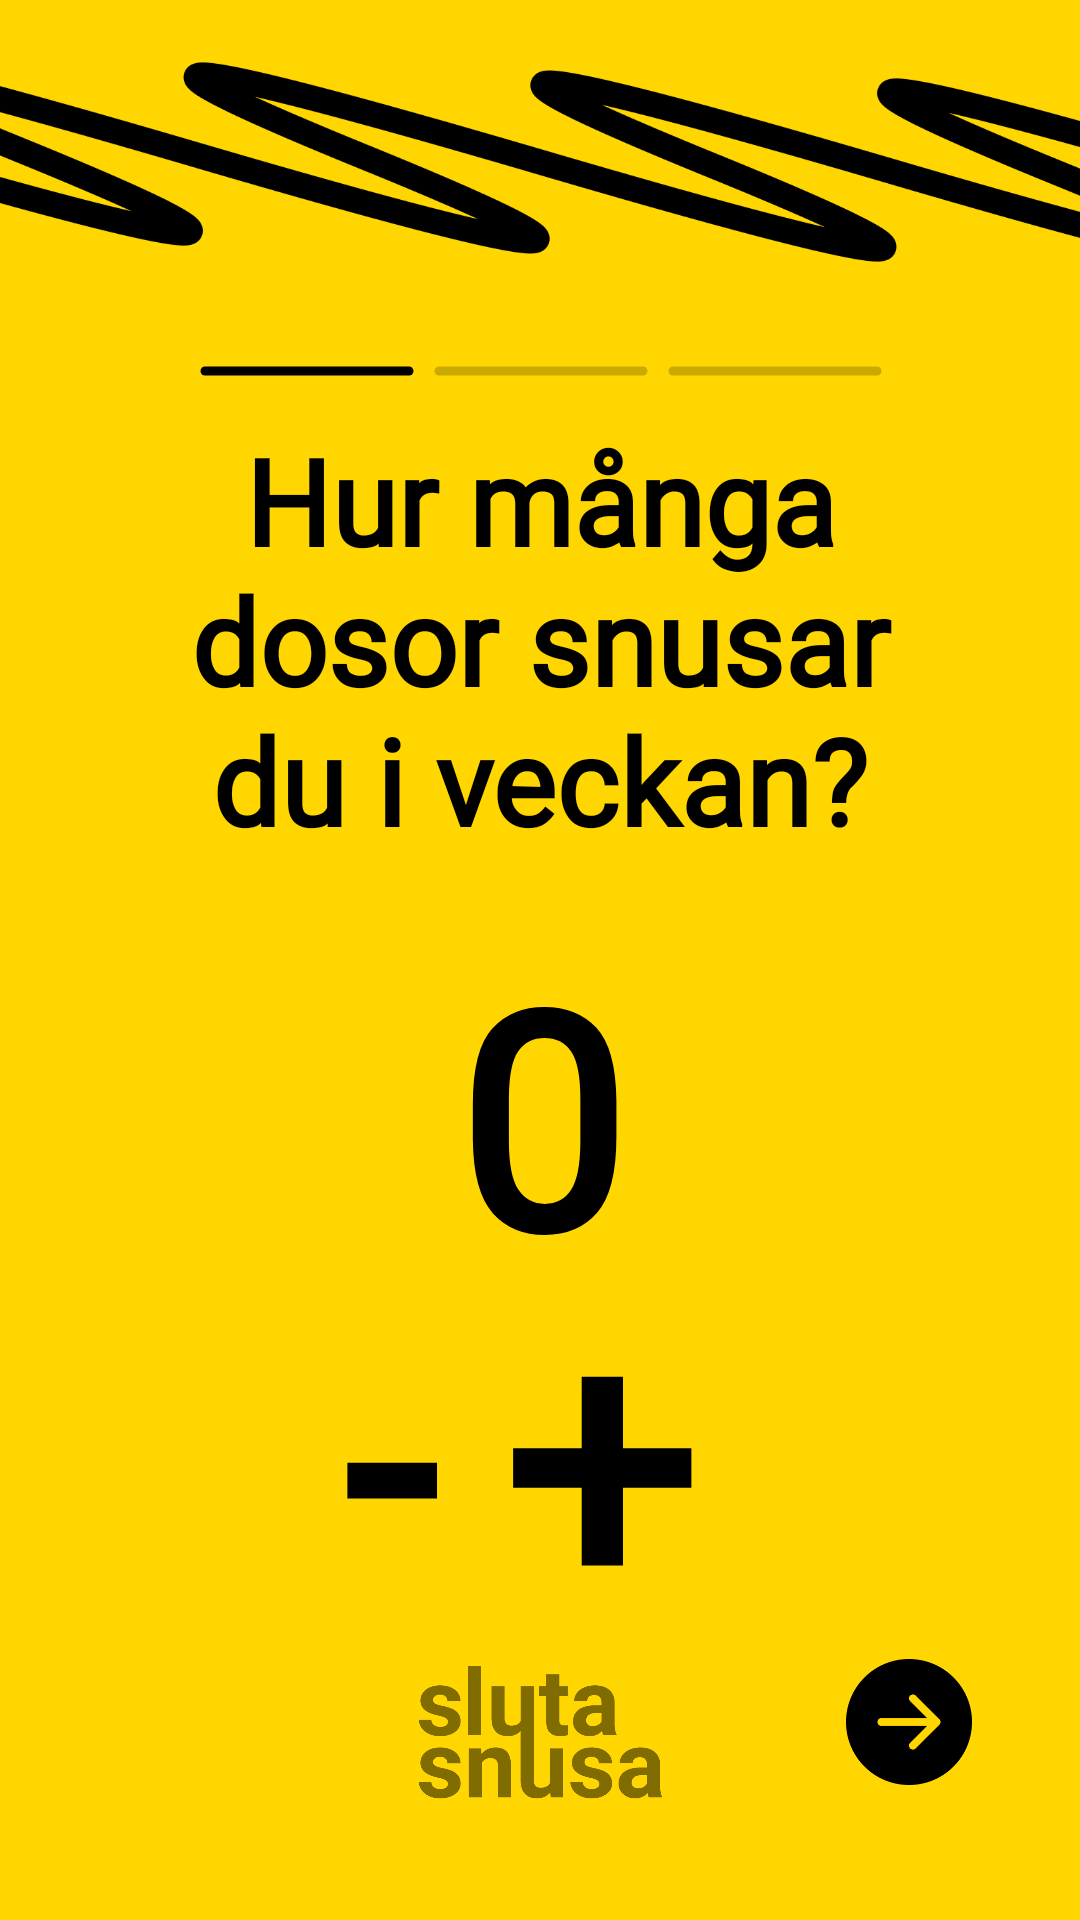

Icons on this 1080*1920 Android screen, each with its box as (x1=x1, y1=y1, x2=x2, y2=y2):
arrow: (x1=846, y1=1659, x2=972, y2=1785)
